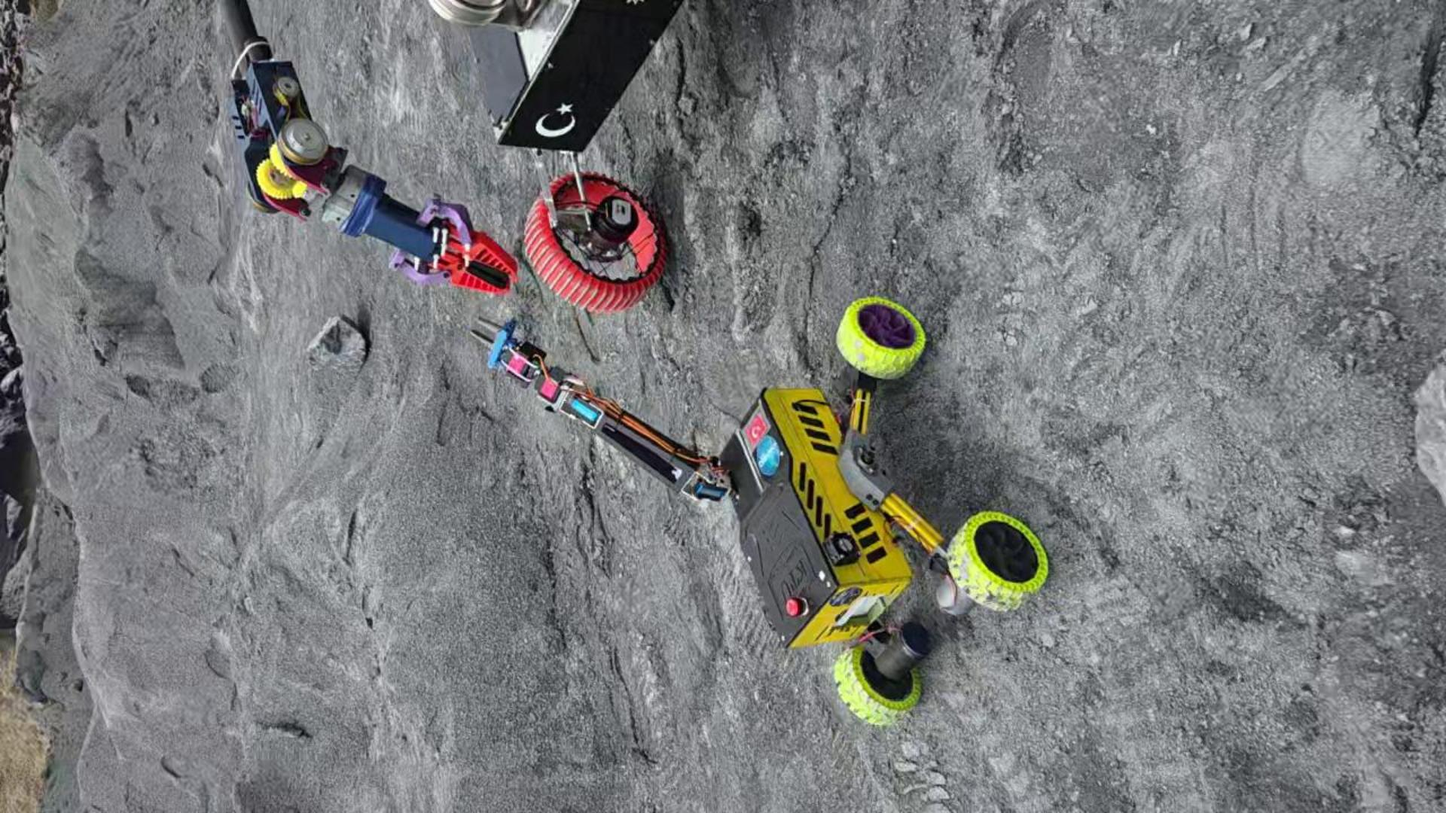rock: (306, 316, 367, 368)
